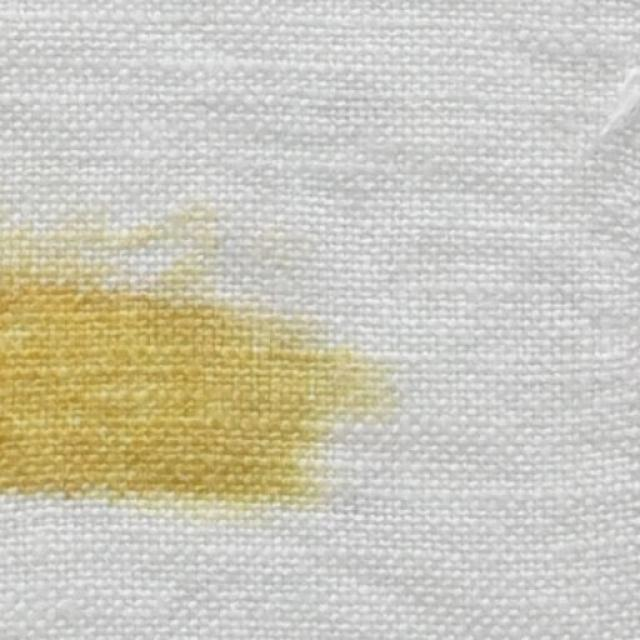Stain: (0, 282, 392, 503)
